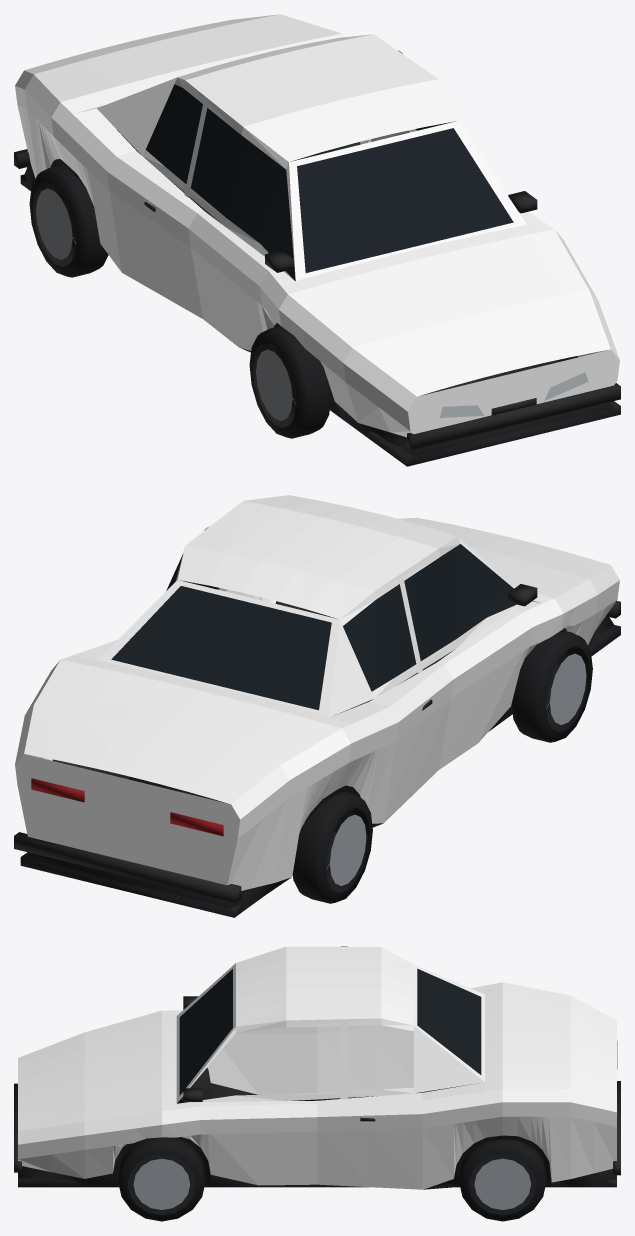
File: kanaya_lume.glb
3 renders of one model, top to bottom at view 1: azimuth 30°, elevation 25°; view 2: azimuth 150°, elevation 25°; view 3: azimuth 270°, elevation 25°, orthographic. The views are drawn at different scales.
Parts seen in each view (by area): view 1: Body_Paint, Body_Details, Mount_FrontLeft_Wheel_Details, Mount_RearLeft_Wheel_Details; view 2: Body_Paint, Body_Details, Mount_FrontLeft_Wheel_Details, Mount_RearLeft_Wheel_Details; view 3: Body_Paint, Body_Details, Mount_FrontRight_Wheel_Details, Mount_RearRight_Wheel_Details.
Boxes of the visible parts, x1,y1,x2,y2 form: Body_Paint: (15, 14, 619, 437); Body_Details: (14, 84, 620, 466); Mount_FrontLeft_Wheel_Details: (249, 326, 331, 438); Mount_RearLeft_Wheel_Details: (29, 164, 108, 277); Body_Paint: (15, 495, 619, 890); Body_Details: (14, 544, 620, 917); Mount_FrontLeft_Wheel_Details: (511, 630, 592, 742); Mount_RearLeft_Wheel_Details: (292, 791, 372, 903); Body_Paint: (18, 946, 616, 1189); Body_Details: (14, 968, 620, 1189); Mount_FrontRight_Wheel_Details: (118, 1137, 205, 1221); Mount_RearRight_Wheel_Details: (459, 1139, 546, 1221).
Bounding box in the file's own units: 1.81 × 1.4 × 4.09.
2 materials, 1 textured.
